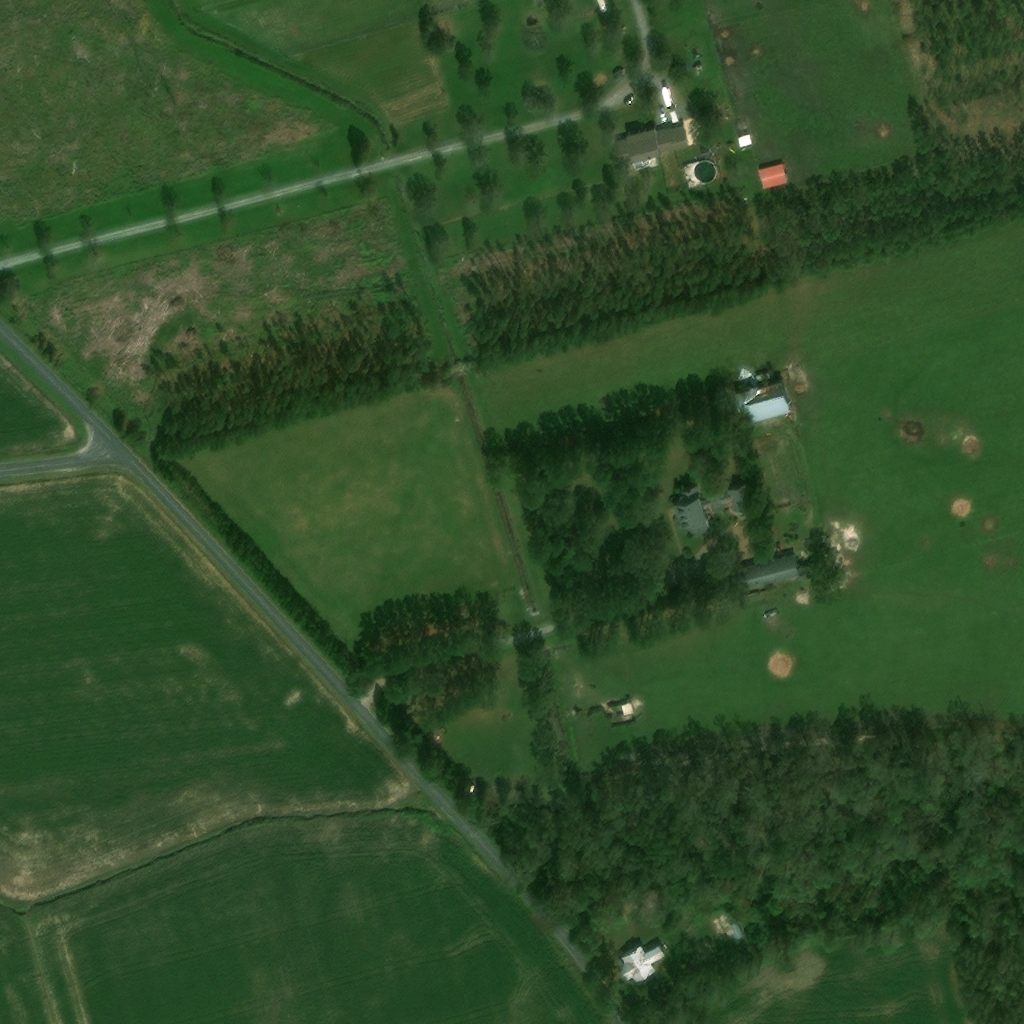no_damage: (670, 486, 743, 535), (731, 375, 790, 426), (739, 556, 798, 590), (619, 946, 665, 985), (616, 128, 661, 164), (656, 125, 690, 155), (758, 167, 788, 192), (796, 565, 814, 578), (737, 136, 752, 150), (613, 73, 628, 86), (731, 923, 742, 939), (621, 705, 633, 718), (701, 146, 712, 159)
unclassified: (682, 552, 694, 564), (727, 913, 736, 924)
